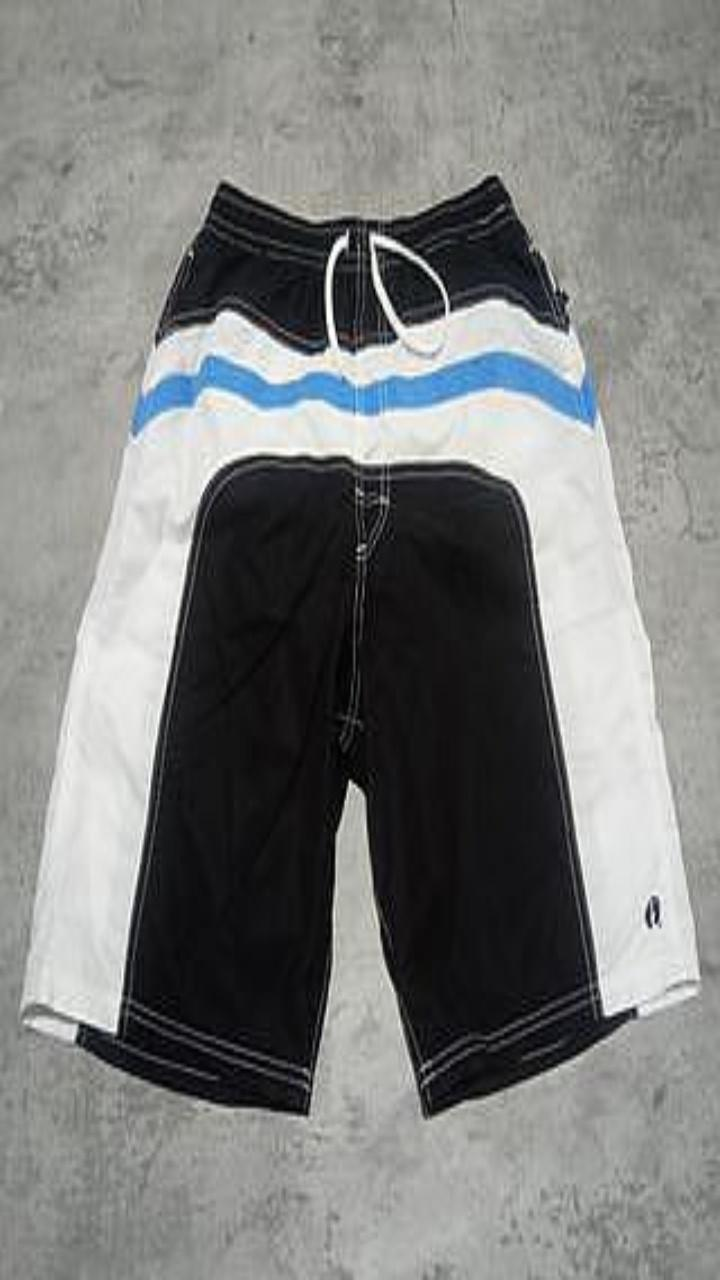Shorts: (21, 175, 699, 1115)
